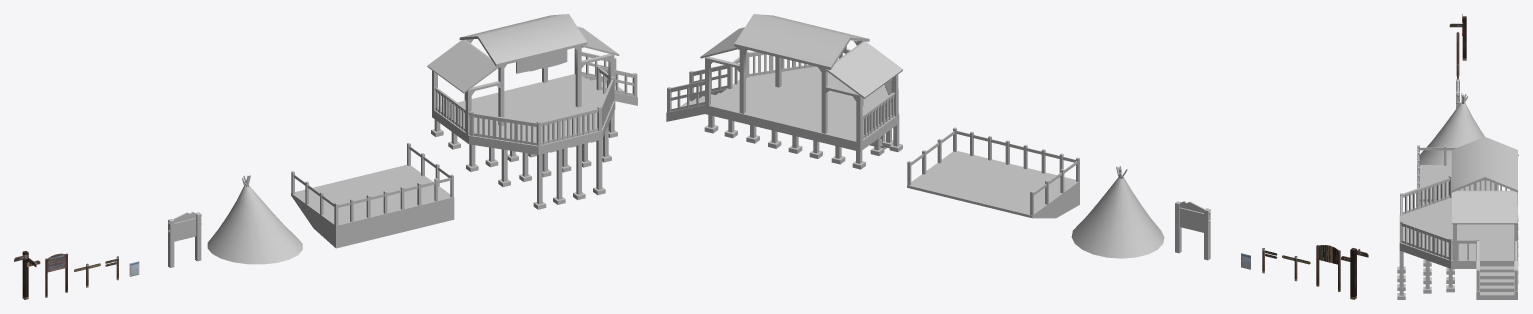
The picture shows the model from 3 angles, left to right: view 1: azimuth 30°, elevation 25°; view 2: azimuth 150°, elevation 25°; view 3: azimuth 270°, elevation 25°; orthographic projection. The views are drawn at different scales.
Parts seen in each view (by area): view 1: Jajac2Classroom, Jajac2View, Jajac2House, Jajac2Sign, Jajac1Sign2, Jajac1Sign1; view 2: Jajac2Classroom, Jajac2View, Jajac2House, Jajac2Sign, Jajac1Sign2, Jajac1Sign1; view 3: Jajac2Classroom, Jajac2House, Jajac2View, Jajac1Sign1, Jajac1Sign2, Jajac2Sign.
Part boxes in pixels (x1,y1,x2,y2): Jajac2Classroom: [427, 14, 637, 209]; Jajac2View: [291, 143, 454, 248]; Jajac2House: [207, 175, 302, 264]; Jajac2Sign: [168, 211, 201, 267]; Jajac1Sign2: [45, 253, 67, 297]; Jajac1Sign1: [14, 251, 40, 299]; Jajac2Classroom: [666, 14, 902, 169]; Jajac2View: [907, 127, 1079, 218]; Jajac2House: [1071, 166, 1164, 258]; Jajac2Sign: [1175, 201, 1210, 260]; Jajac1Sign2: [1316, 245, 1340, 291]; Jajac1Sign1: [1341, 248, 1368, 299]; Jajac2Classroom: [1397, 137, 1518, 299]; Jajac2House: [1417, 93, 1484, 164]; Jajac2View: [1417, 145, 1498, 205]; Jajac1Sign1: [1449, 14, 1466, 60]; Jajac1Sign2: [1456, 32, 1459, 75]; Jajac2Sign: [1456, 79, 1459, 108].
Size of the model in its own units: 36307 by 6656 by 7758.
